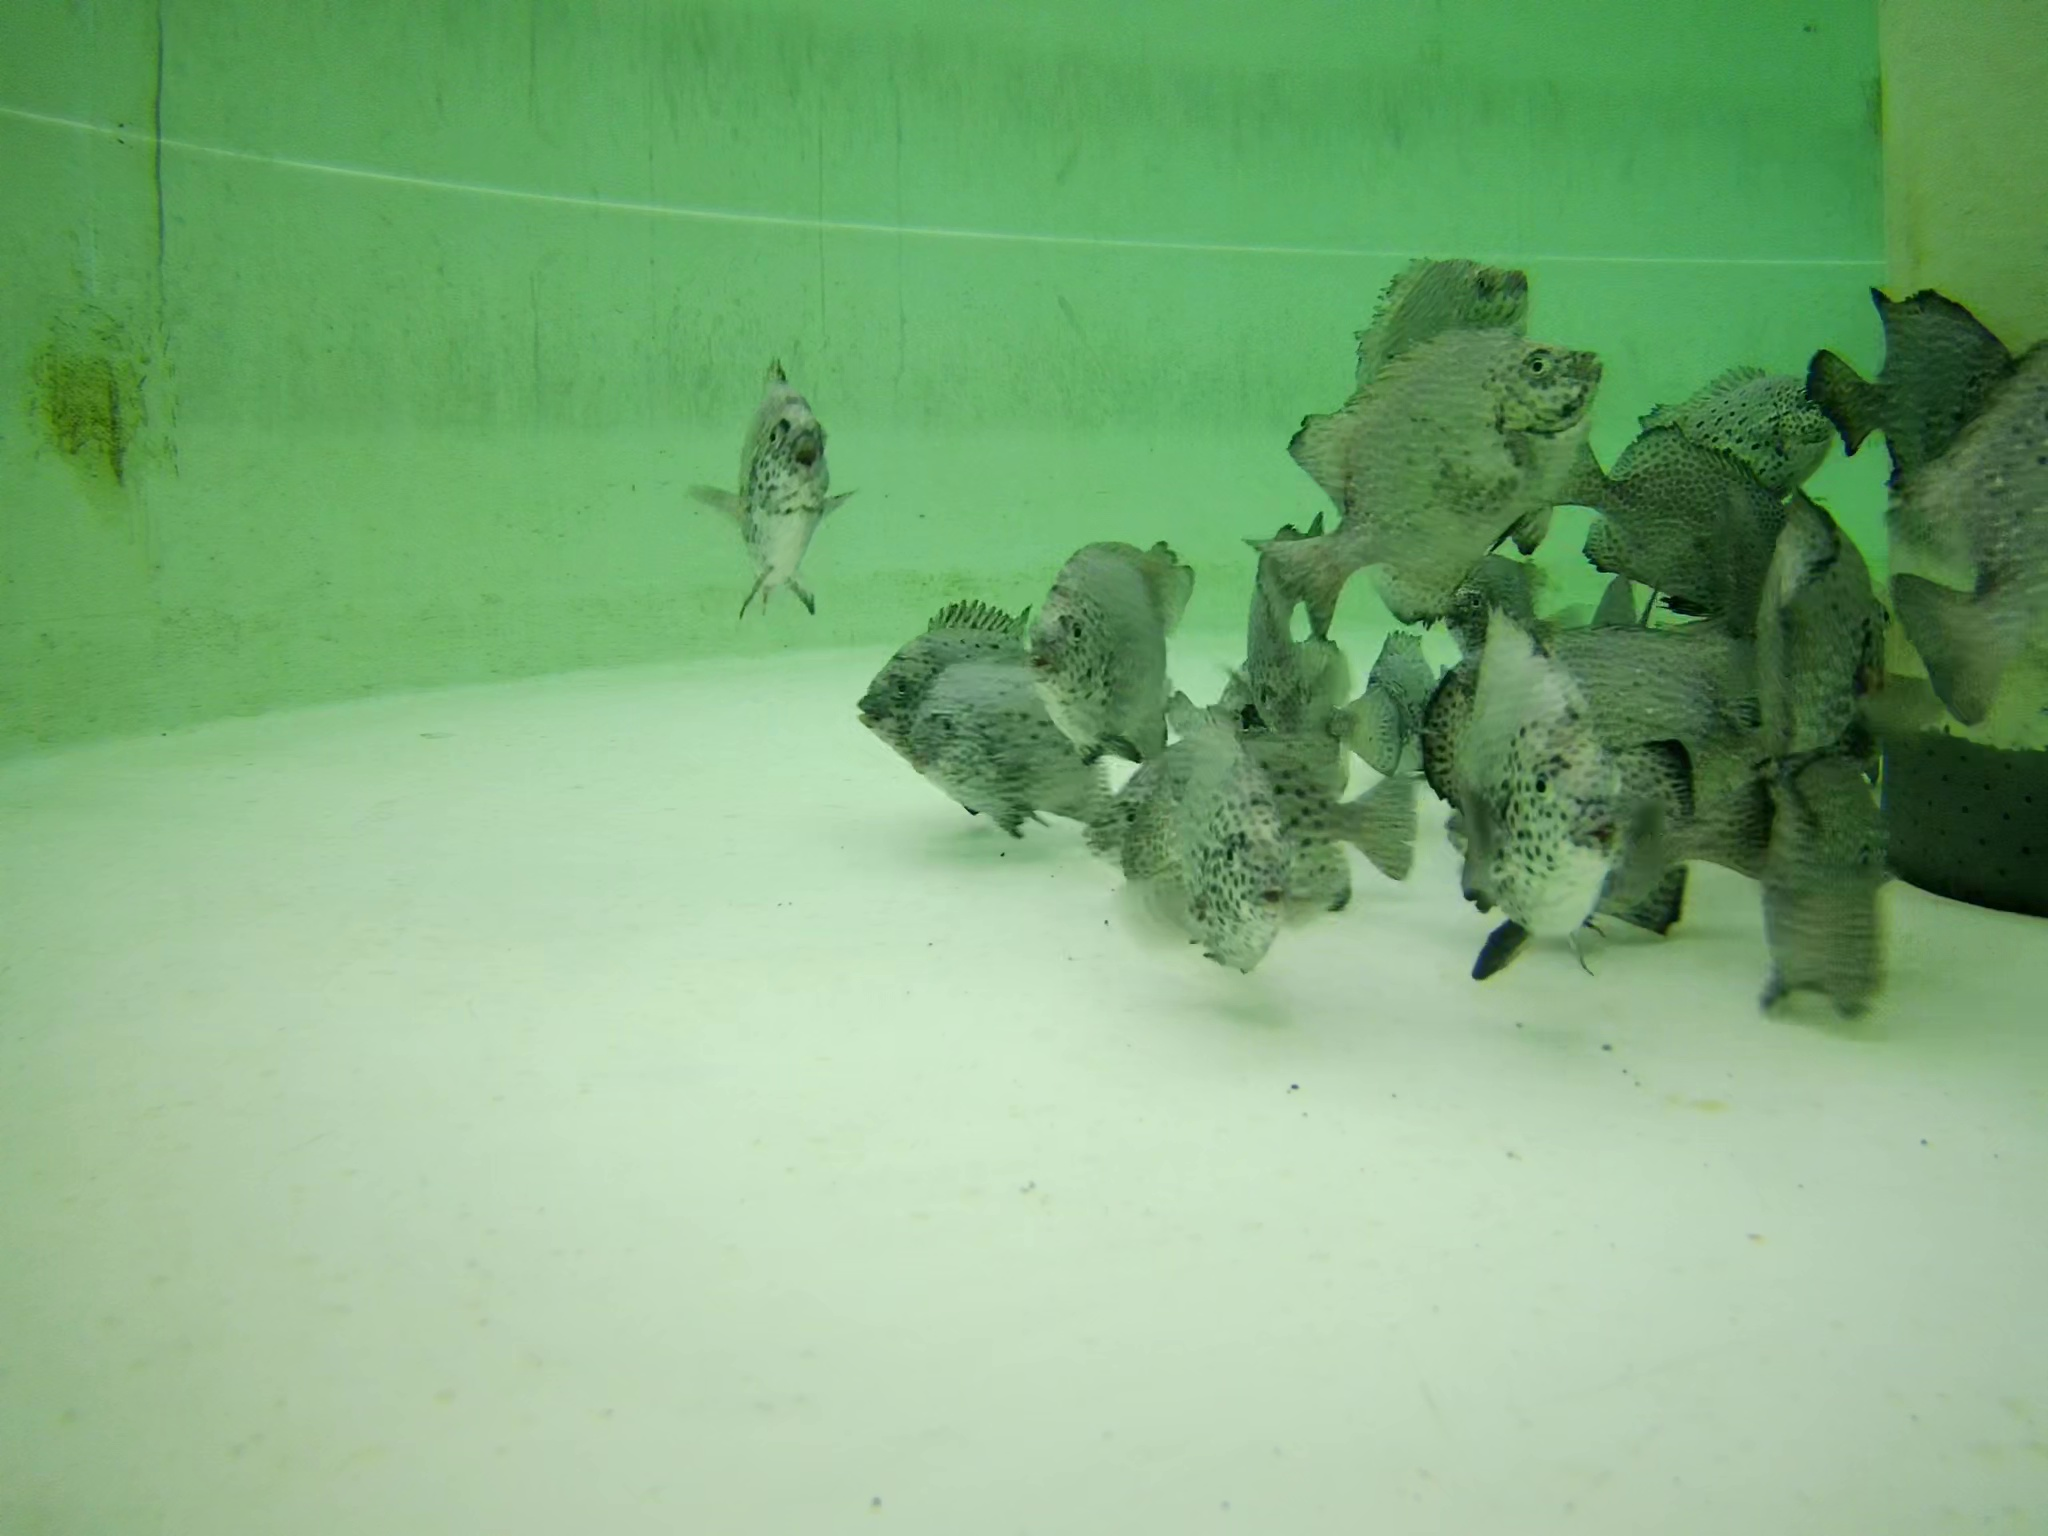fish: (1230, 329, 1593, 629), (1903, 321, 2048, 734), (1467, 587, 1761, 752), (1511, 737, 1766, 921), (1567, 436, 1822, 616), (1147, 724, 1426, 887), (1811, 265, 2027, 473), (1026, 524, 1195, 757), (1758, 742, 1890, 1021), (703, 363, 847, 618), (903, 663, 1116, 824), (1350, 253, 1537, 434), (1485, 710, 1609, 981), (851, 599, 1035, 771), (1766, 507, 1890, 745), (1635, 361, 1834, 494), (1245, 632, 1405, 774), (1201, 757, 1288, 957), (1240, 539, 1300, 715)
